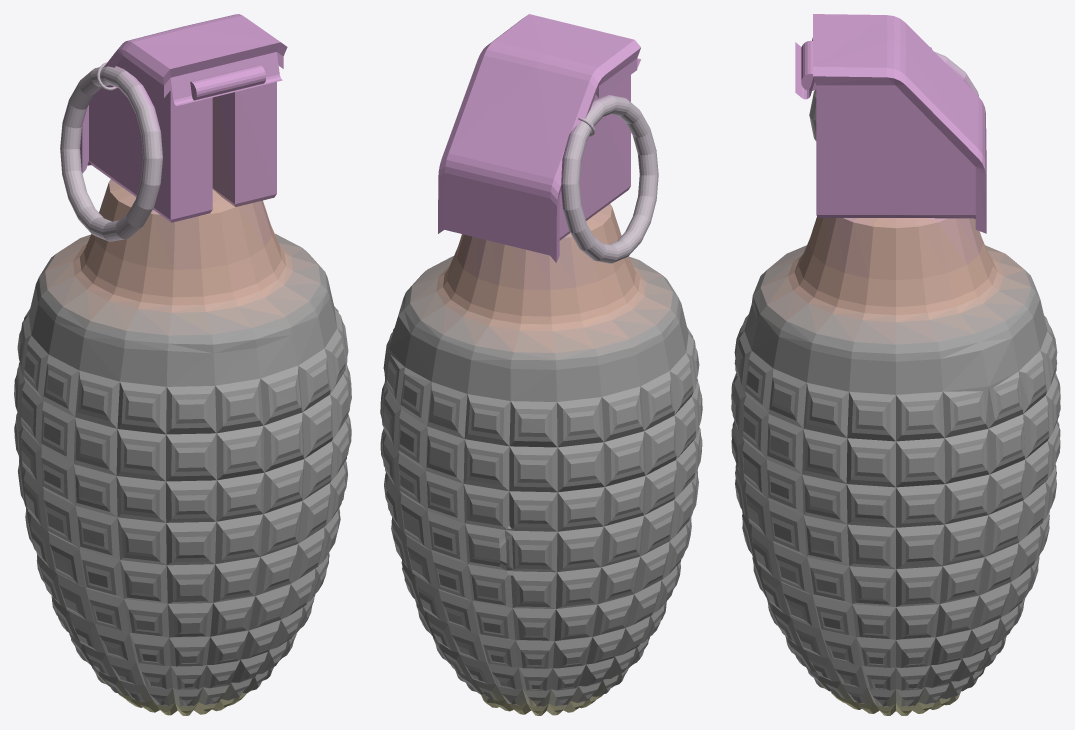
3 views of the same model, side by side, from view 1: azimuth 30°, elevation 25°; view 2: azimuth 150°, elevation 25°; view 3: azimuth 270°, elevation 25° (orthographic). The views are drawn at different scales.
Visible parts, largest first — view 1: world; view 2: world; view 3: world.
Boxes of the visible parts, left/top/right/bottom form: world: left=14, top=14, right=351, bottom=715; world: left=380, top=14, right=702, bottom=715; world: left=731, top=14, right=1060, bottom=715.
Size of the model in its own units: 0.4496 by 1 by 0.4496.
